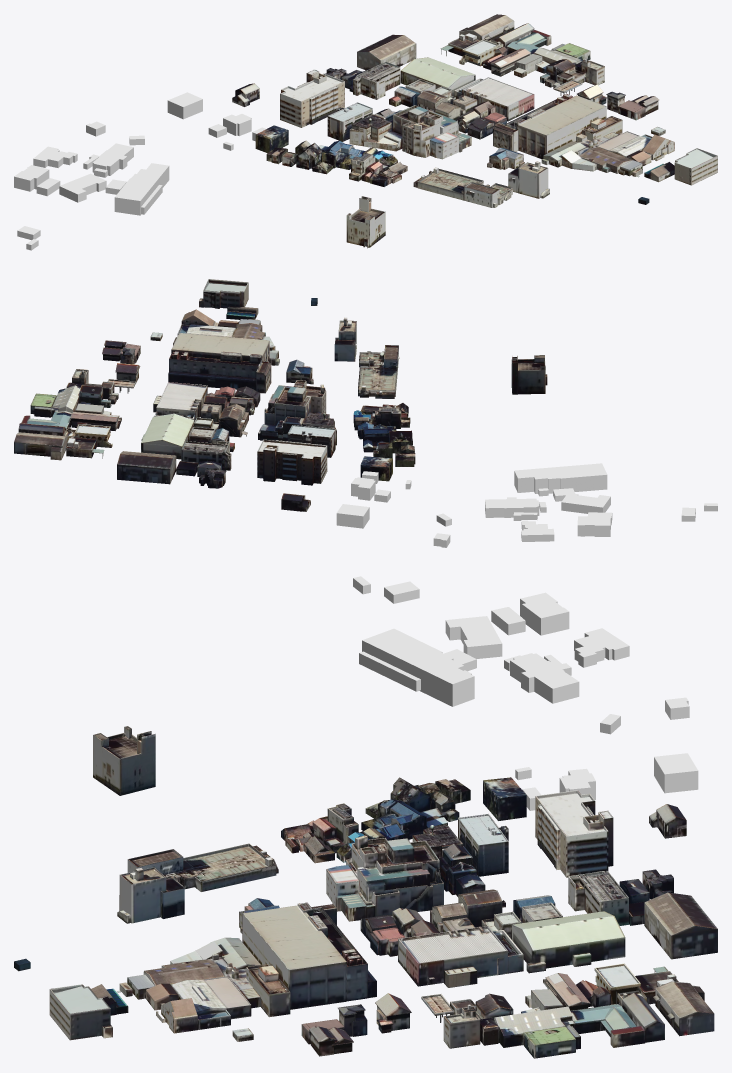
The model's file is 2023-lod3-station-1-0-packed.glb.
3 views of the same model, one above another, from view 1: azimuth 30°, elevation 25°; view 2: azimuth 150°, elevation 25°; view 3: azimuth 270°, elevation 25° (orthographic). The views are drawn at different scales.
Bounding box in the file's own units: 371 × 21.84 × 234.
Materials: 3 (2 with a texture image).
